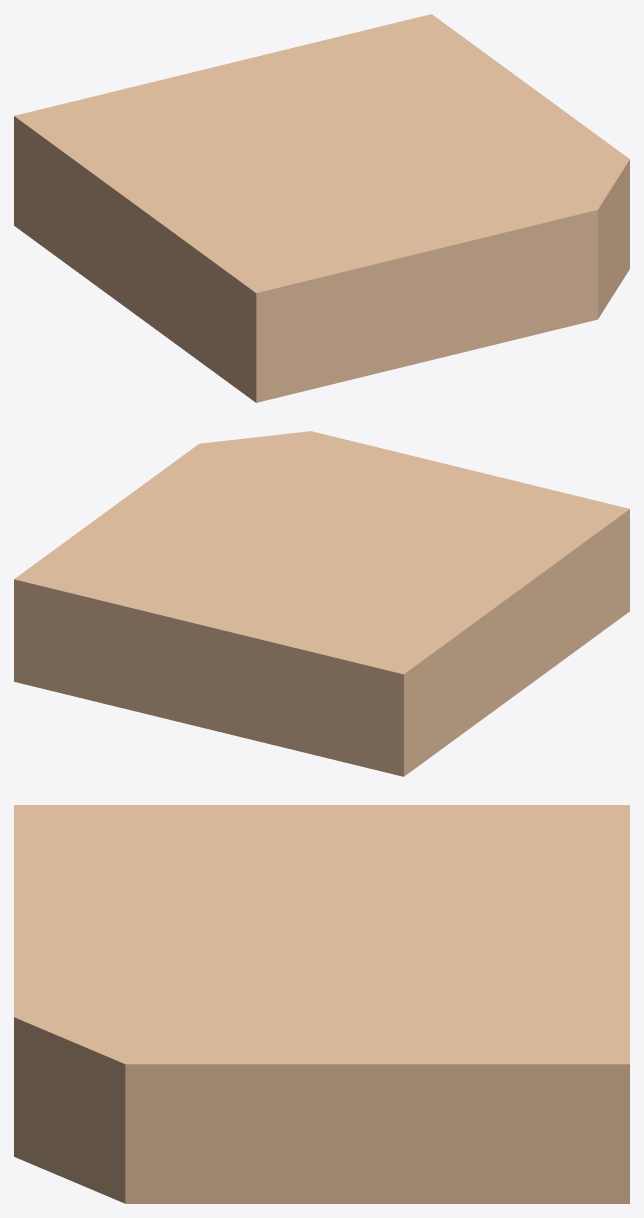
Rendered from floorCorner-col.glb.
The picture shows the model from 3 angles, top to bottom: view 1: azimuth 30°, elevation 25°; view 2: azimuth 150°, elevation 25°; view 3: azimuth 270°, elevation 25°; orthographic projection. The views are drawn at different scales.
Parts seen in each view (by area): view 1: floorCorner-col; view 2: floorCorner-col; view 3: floorCorner-col.
Part boxes in pixels (x1,y1,x2,y2): floorCorner-col: (14,14,629,402); floorCorner-col: (14,431,629,776); floorCorner-col: (14,805,629,1203).
Size of the model in its own units: 0.9955 by 0.25 by 1.
